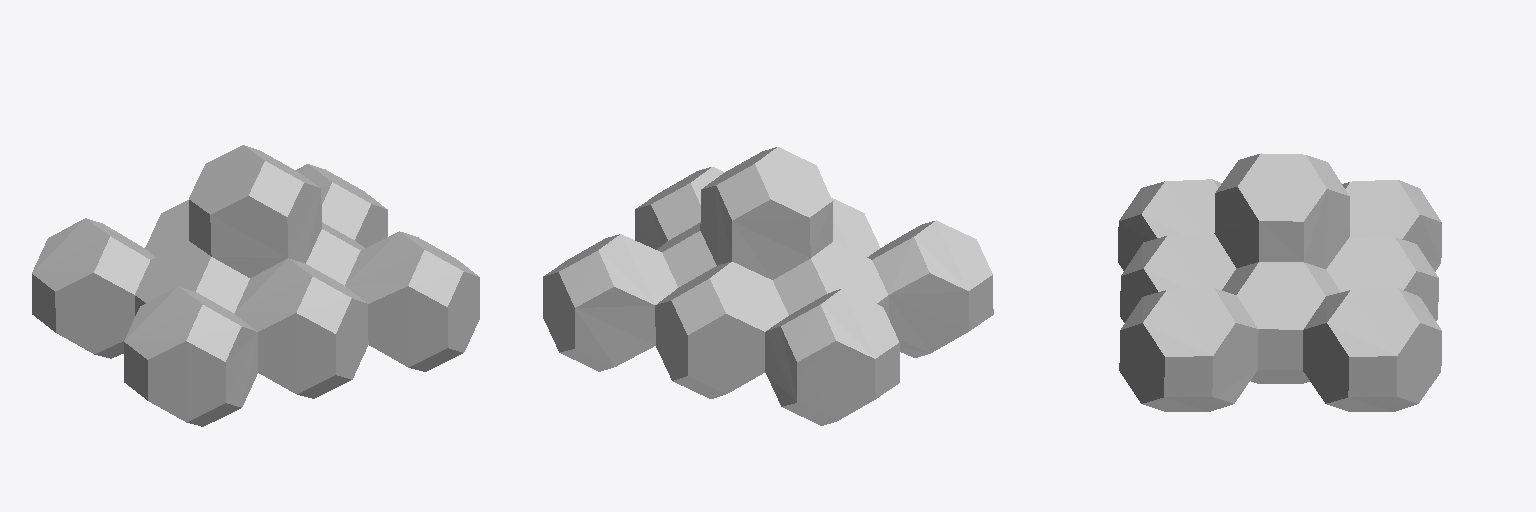
The model's file is fcc9.obj.
3 renders of one model, left to right at view 1: azimuth 30°, elevation 25°; view 2: azimuth 150°, elevation 25°; view 3: azimuth 270°, elevation 25°, orthographic.
Visible parts, largest first — view 1: Obj2.005_Mesh2.005, Obj2.002_Mesh2.002, Obj4_Mesh4, Obj2.001_Mesh2.001, Obj2.004_Mesh2.004, Obj1_Mesh1, Obj2.003_Mesh2.003, Obj3_Mesh3, Obj2_Mesh2; view 2: Obj2.004_Mesh2.004, Obj4_Mesh4, Obj2.003_Mesh2.003, Obj2_Mesh2, Obj2.005_Mesh2.005, Obj1_Mesh1, Obj2.002_Mesh2.002, Obj3_Mesh3, Obj2.001_Mesh2.001; view 3: Obj2.003_Mesh2.003, Obj2.002_Mesh2.002, Obj4_Mesh4, Obj3_Mesh3, Obj2.001_Mesh2.001, Obj2.005_Mesh2.005, Obj2.004_Mesh2.004, Obj2_Mesh2.
Boxes of the visible parts, box(x1,y1,x2,y2) form: Obj2.005_Mesh2.005: box(124, 286, 257, 426); Obj2.002_Mesh2.002: box(345, 231, 479, 371); Obj4_Mesh4: box(189, 145, 321, 277); Obj2.001_Mesh2.001: box(234, 258, 368, 398); Obj2.004_Mesh2.004: box(32, 218, 155, 358); Obj1_Mesh1: box(135, 241, 249, 315); Obj2.003_Mesh2.003: box(296, 164, 387, 247); Obj3_Mesh3: box(306, 222, 364, 285); Obj2_Mesh2: box(145, 200, 188, 256); Obj2.004_Mesh2.004: box(765, 288, 899, 425); Obj4_Mesh4: box(700, 147, 832, 279); Obj2.003_Mesh2.003: box(543, 234, 677, 371); Obj2_Mesh2: box(655, 262, 788, 398); Obj2.005_Mesh2.005: box(867, 220, 993, 357); Obj1_Mesh1: box(773, 242, 888, 317); Obj2.002_Mesh2.002: box(635, 167, 724, 249); Obj3_Mesh3: box(657, 222, 716, 287); Obj2.001_Mesh2.001: box(831, 198, 879, 256); Obj2.003_Mesh2.003: box(1303, 288, 1441, 411); Obj2.002_Mesh2.002: box(1119, 288, 1258, 411); Obj4_Mesh4: box(1214, 153, 1349, 268); Obj3_Mesh3: box(1222, 262, 1340, 383); Obj2.001_Mesh2.001: box(1120, 234, 1235, 322); Obj2.005_Mesh2.005: box(1118, 179, 1221, 270); Obj2.004_Mesh2.004: box(1342, 180, 1441, 271); Obj2_Mesh2: box(1326, 237, 1438, 320).
Bounding box in the file's own units: 3.69 × 2.16 × 3.1.